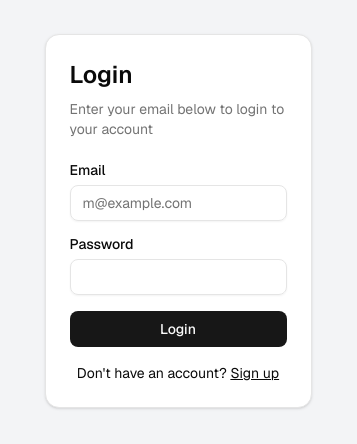
Test: Login Page (Use Case 1) › should display an error message on failed login (TC-LOGIN-02)
Type "test1@gmail.com" into the field labelled "Email".
click(178, 203); type("test1@gmail.com")  # box [70,185,286,221]
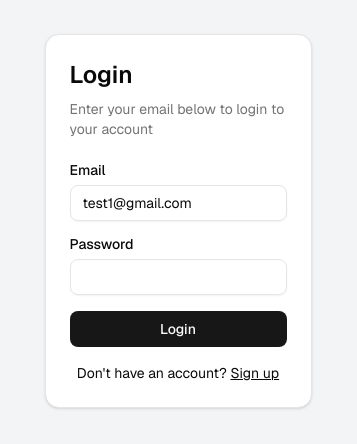
Type "wrongpassword" into the password field labelled "Password".
click(178, 277); type("wrongpassword")  # box [70,259,286,295]
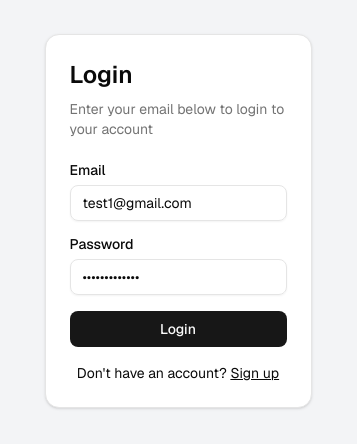
// Test Step: Submit the form directly
Submit the form "Email Password Login", box [70,163,286,347]
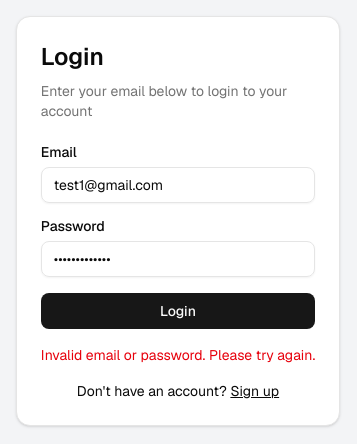
Expected: the text "Invalid email or password. Please try again." is shown, [41,345,315,365]
